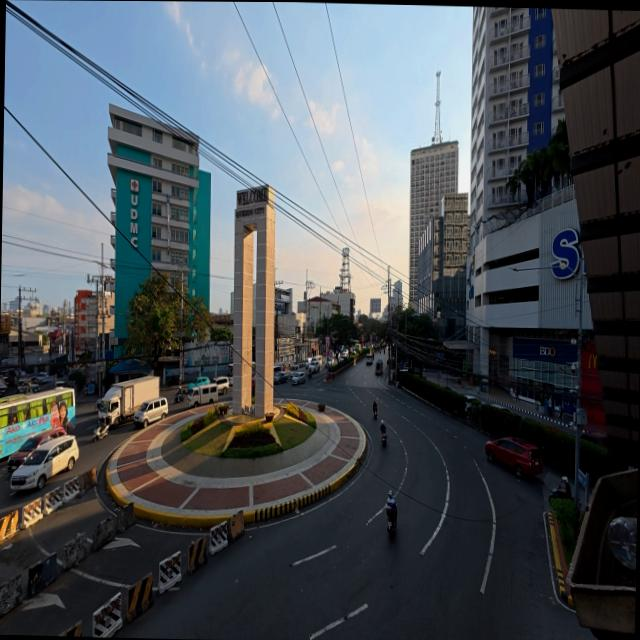Jeepneys: (92, 415, 110, 442), (376, 359, 383, 376)
bus: (0, 387, 75, 459)
car: (8, 428, 66, 473), (485, 439, 542, 477), (582, 431, 608, 447), (210, 376, 229, 394), (464, 394, 481, 412), (188, 376, 209, 390), (17, 380, 39, 393), (292, 371, 306, 385), (273, 371, 288, 384), (491, 404, 511, 413), (308, 359, 320, 374), (56, 380, 73, 388), (35, 372, 48, 382), (39, 375, 55, 383), (228, 377, 233, 387)
motorcycle: (93, 419, 110, 442), (549, 485, 572, 500), (387, 510, 396, 538), (174, 389, 184, 403), (381, 433, 387, 446), (373, 409, 377, 419)
trucks: (99, 376, 159, 425)
vans: (11, 436, 78, 489), (134, 398, 168, 427), (188, 385, 218, 406), (290, 365, 300, 376), (274, 364, 283, 374)
